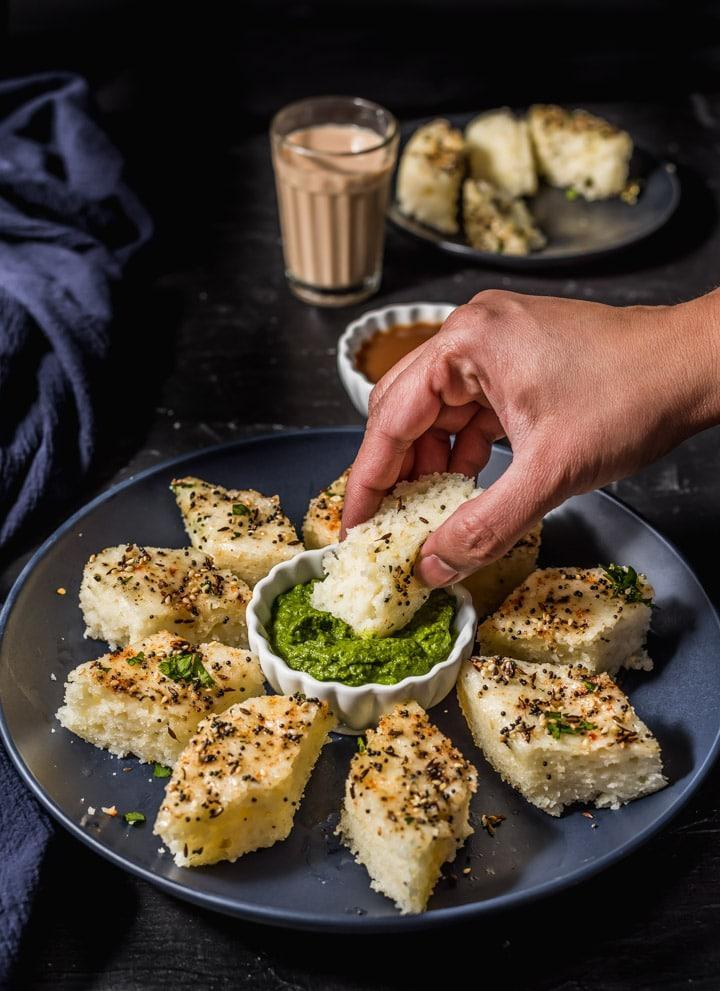dhokla: (82, 471, 658, 900)
